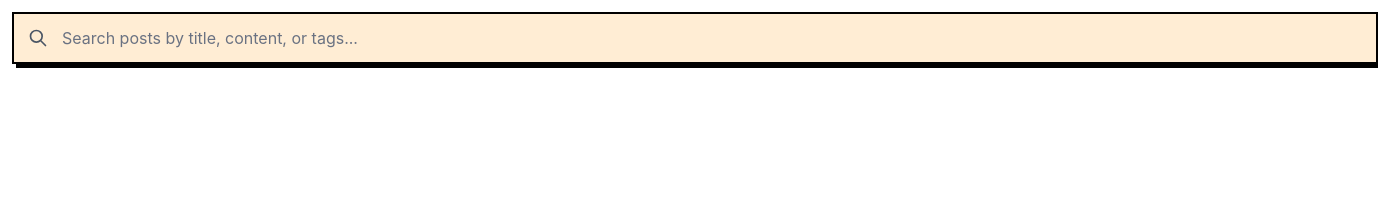
Scenario: BlogSearch Component › Rendering › shows dropdown when typing
The image size is (1390, 209).
Type "TypeScript" into the search field.
click(695, 38); type("TypeScript")  # box [12,12,1378,64]
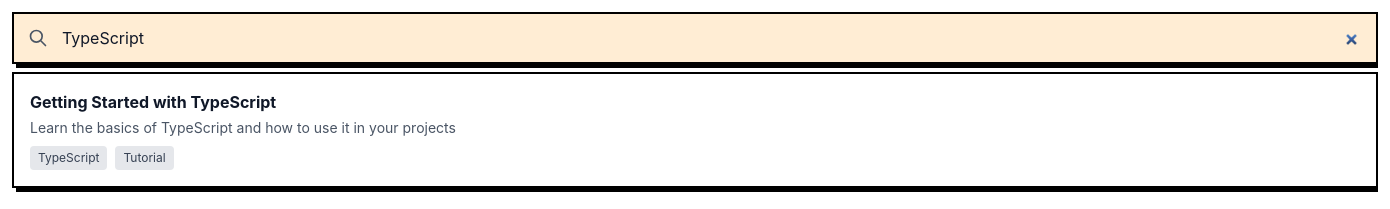
Result: the list is shown at [30,92,456,170]
